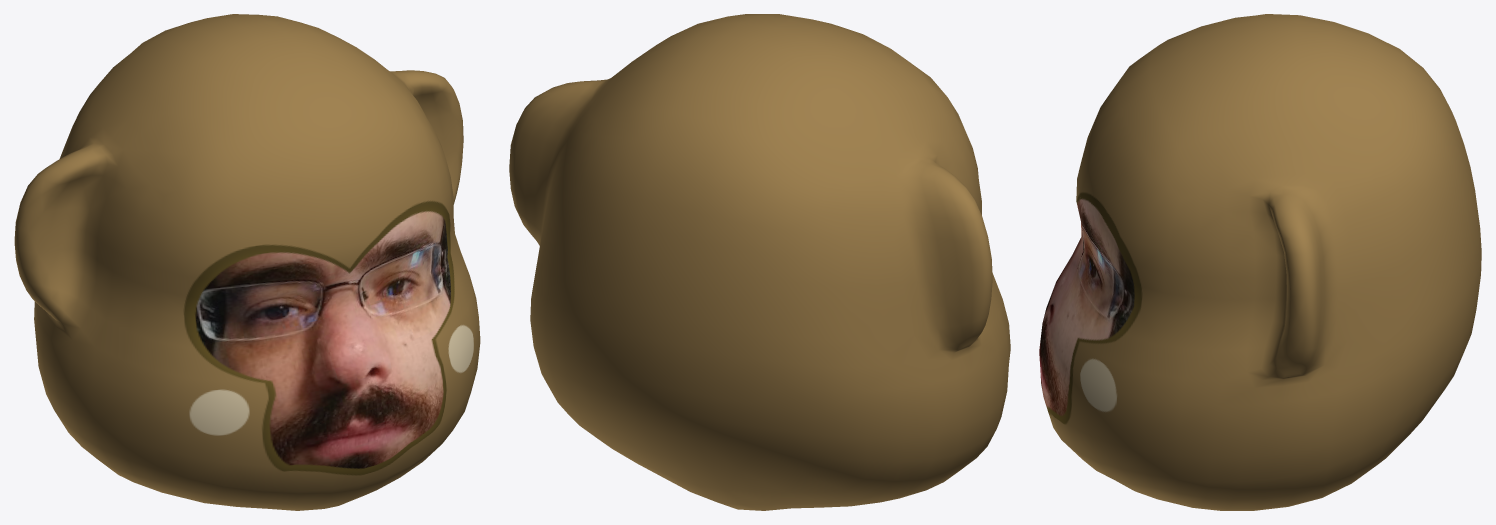
File: GJ2017_Monkey_head_smooth.fbx
3 views of the same model, side by side, from view 1: azimuth 30°, elevation 25°; view 2: azimuth 150°, elevation 25°; view 3: azimuth 270°, elevation 25° (orthographic). The views are drawn at different scales.
Visible parts, largest first — view 1: SM_Monkey8; view 2: SM_Monkey8; view 3: SM_Monkey8.
Boxes of the visible parts, <box> form: SM_Monkey8: <box>14,14,480,510</box>; SM_Monkey8: <box>509,14,1010,510</box>; SM_Monkey8: <box>1039,14,1481,510</box>.
Size of the model in its own units: 16.76 by 15.84 by 13.97.
